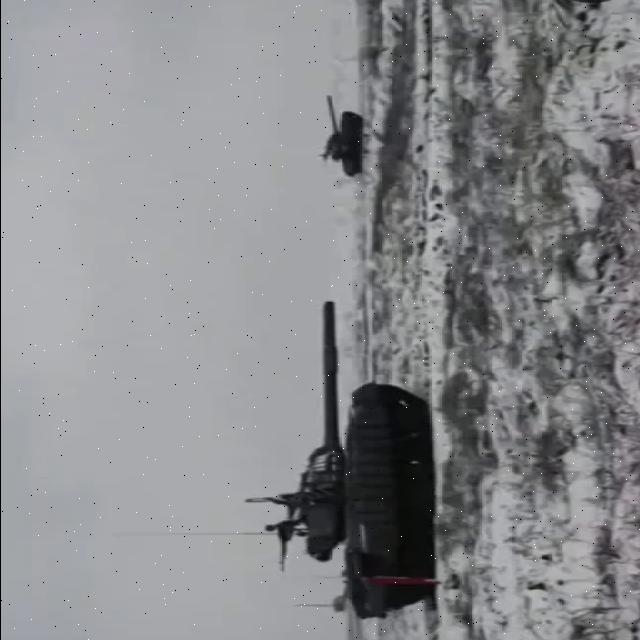TANK: (241, 298, 445, 618), (314, 92, 364, 176)
